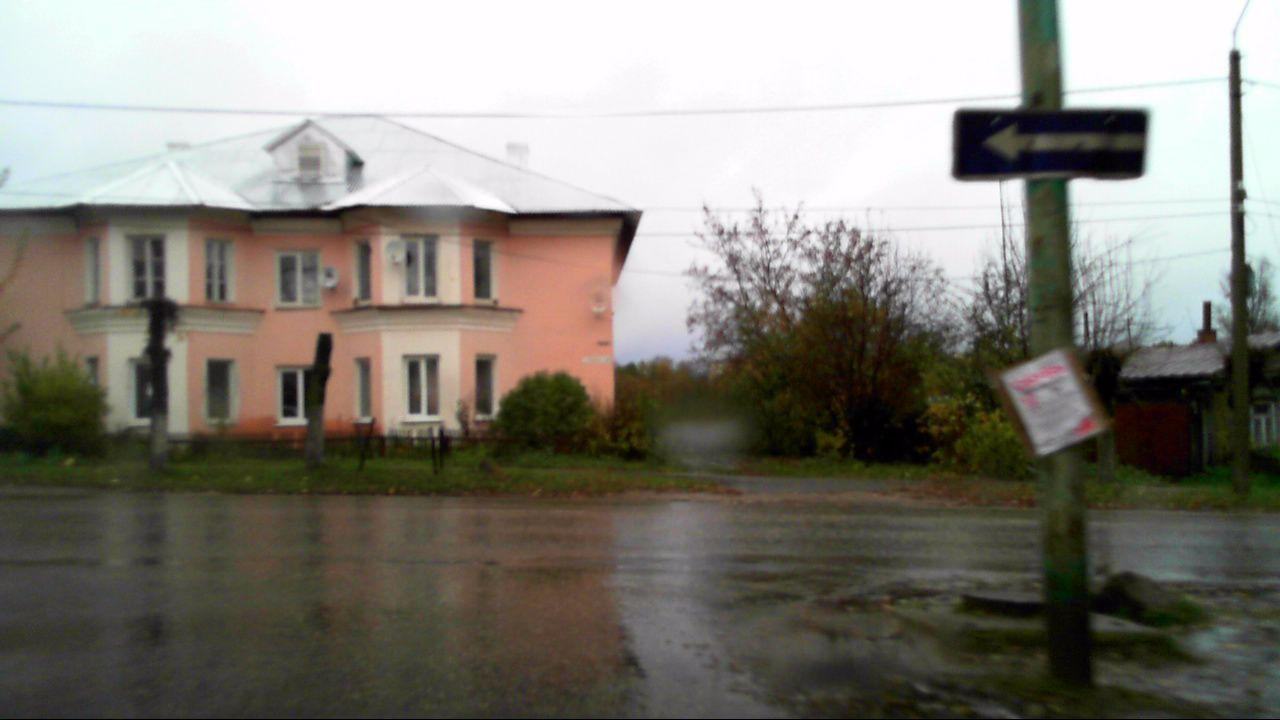5_7_2: (950, 108, 1148, 182)
